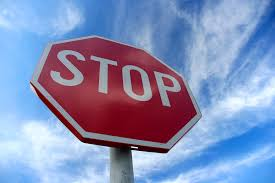stop: (30, 34, 202, 153)
